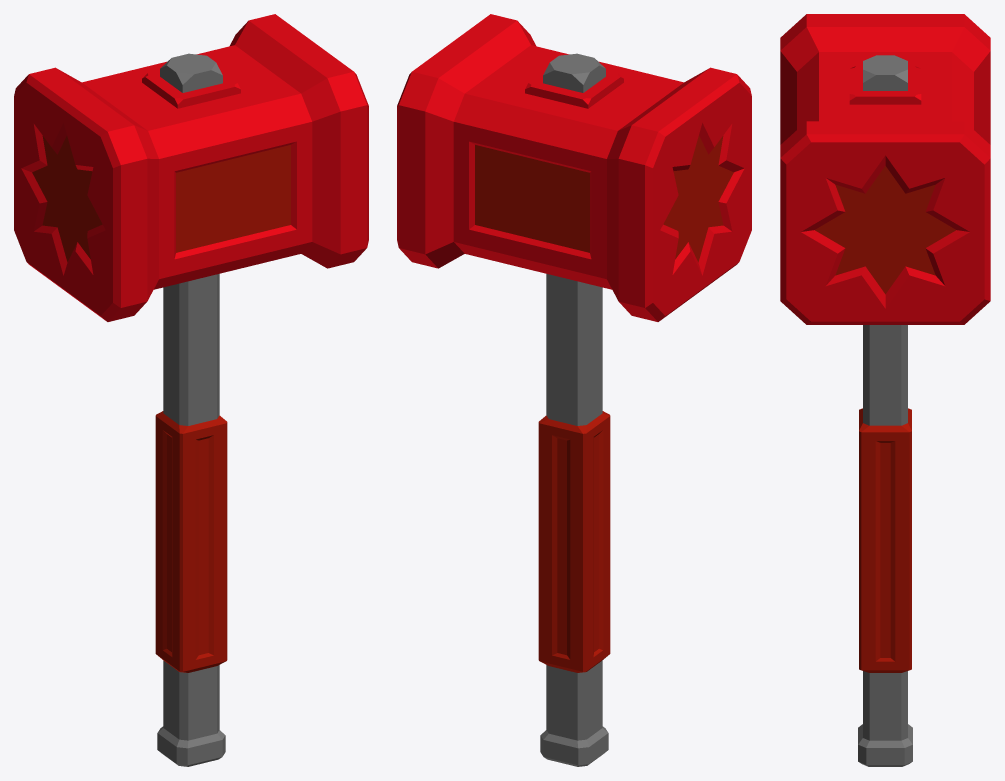
File: sodahammer.glb
3 views of the same model, side by side, from view 1: azimuth 30°, elevation 25°; view 2: azimuth 150°, elevation 25°; view 3: azimuth 270°, elevation 25° (orthographic).
Parts seen in each view (by area): view 1: Cube; view 2: Cube; view 3: Cube.
Part boxes in pixels (left/top/right/bottom): Cube: left=14, top=14, right=368, bottom=766; Cube: left=397, top=14, right=751, bottom=766; Cube: left=780, top=14, right=990, bottom=766.
Bounding box in the file's own units: 3.34 × 8.62 × 2.38.
